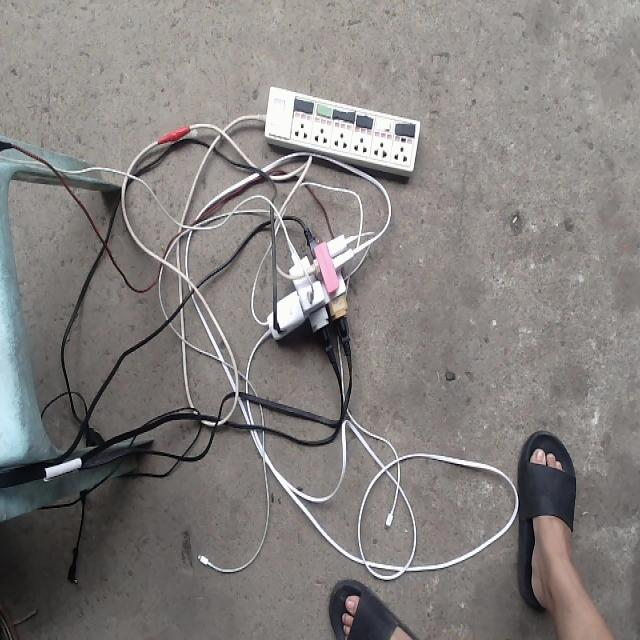-: (266, 228, 360, 347)
